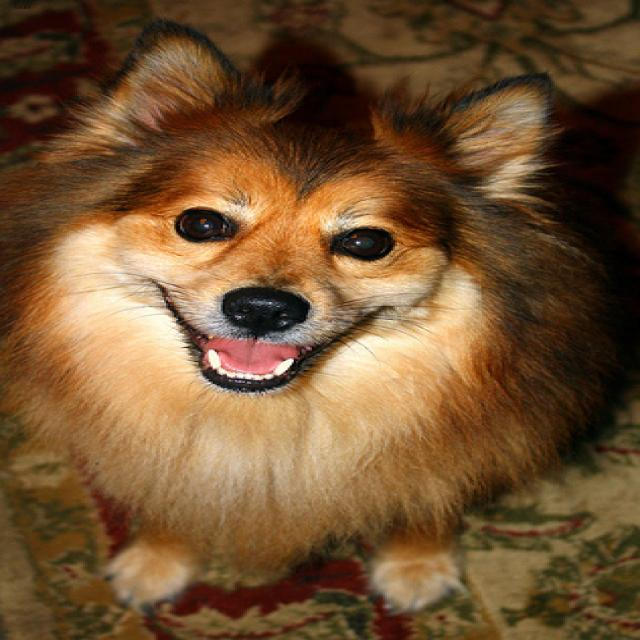dog-pomeranian: (2, 8, 636, 620)
